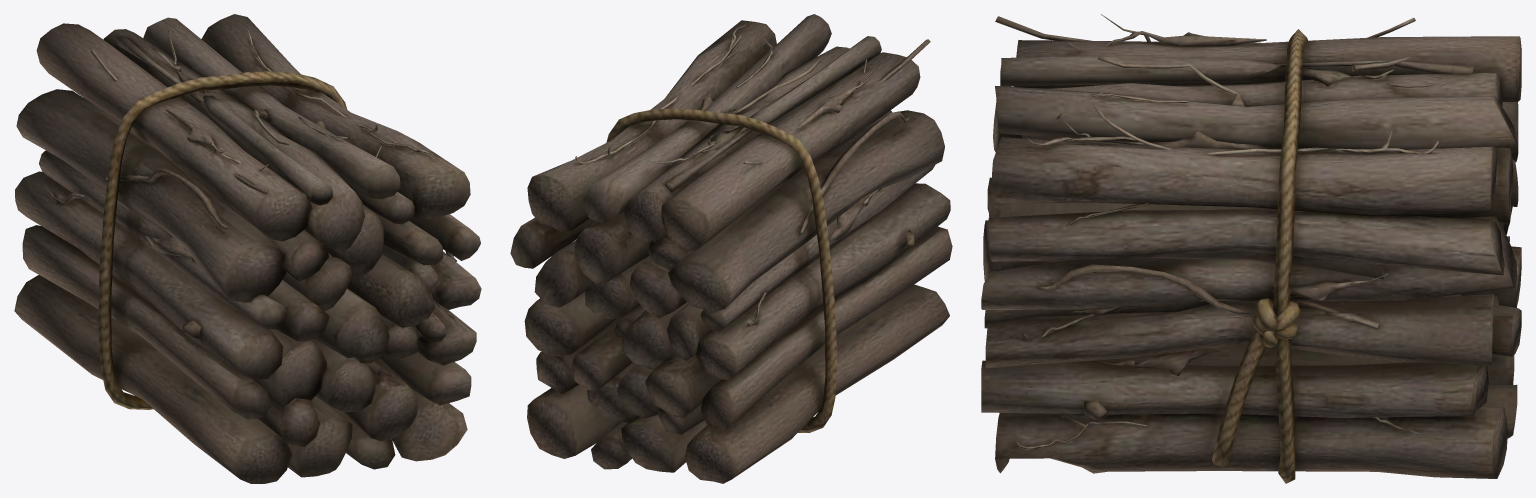
Rendered from firewood.glb.
3 views of the same model, side by side, from view 1: azimuth 30°, elevation 25°; view 2: azimuth 150°, elevation 25°; view 3: azimuth 270°, elevation 25° (orthographic). The views are drawn at different scales.
Visible parts, largest first — view 1: ch1.firewood.003; view 2: ch1.firewood.003; view 3: ch1.firewood.003.
Boxes of the visible parts, x1,y1,x2,y2 form: ch1.firewood.003: (14,14,481,483); ch1.firewood.003: (510,14,952,483); ch1.firewood.003: (981,14,1521,483).
Size of the model in its own units: 0.6504 by 0.7754 by 0.998.
1 material, 1 textured.
